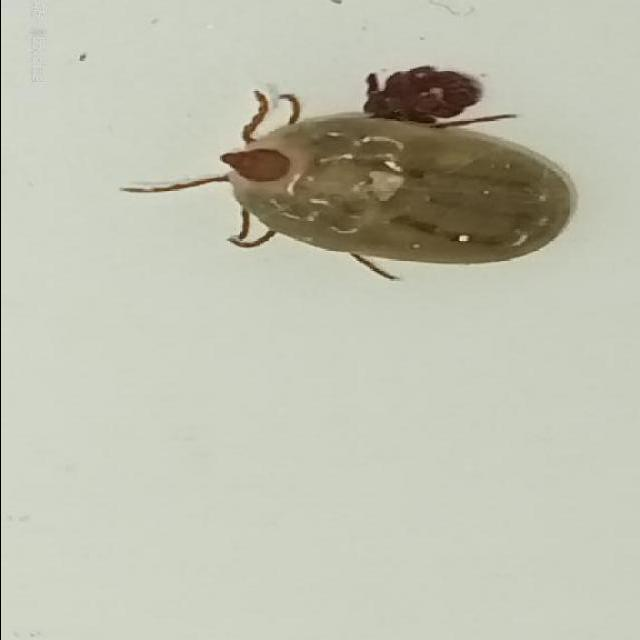Rhipicephalus Sanguineus-F-Fed: (115, 89, 576, 280)
